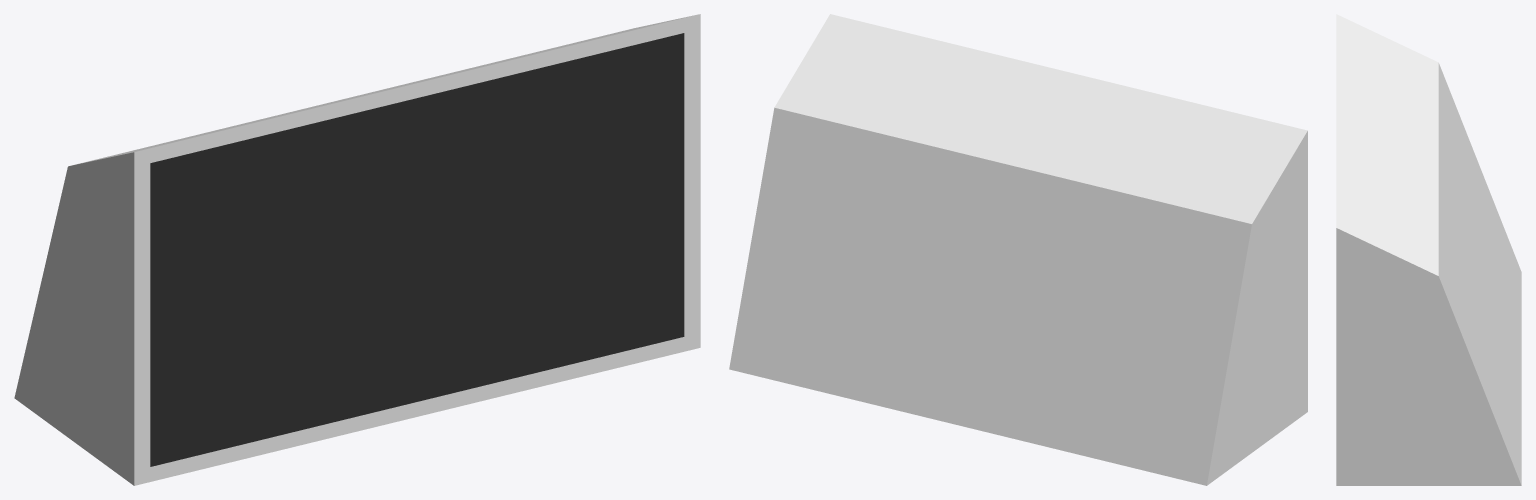
Rendered from ScoreBoard_Standing.fbx.
3 renders of one model, left to right at view 1: azimuth 30°, elevation 25°; view 2: azimuth 150°, elevation 25°; view 3: azimuth 270°, elevation 25°, orthographic. The views are drawn at different scales.
Parts seen in each view (by area): view 1: ScoreBoard_Standing; view 2: ScoreBoard_Standing; view 3: ScoreBoard_Standing.
Boxes of the visible parts, <box> form: ScoreBoard_Standing: <box>14,14,700,485</box>; ScoreBoard_Standing: <box>729,14,1307,485</box>; ScoreBoard_Standing: <box>1336,14,1521,485</box>.
Size of the model in its own units: 316 by 178 by 116.
